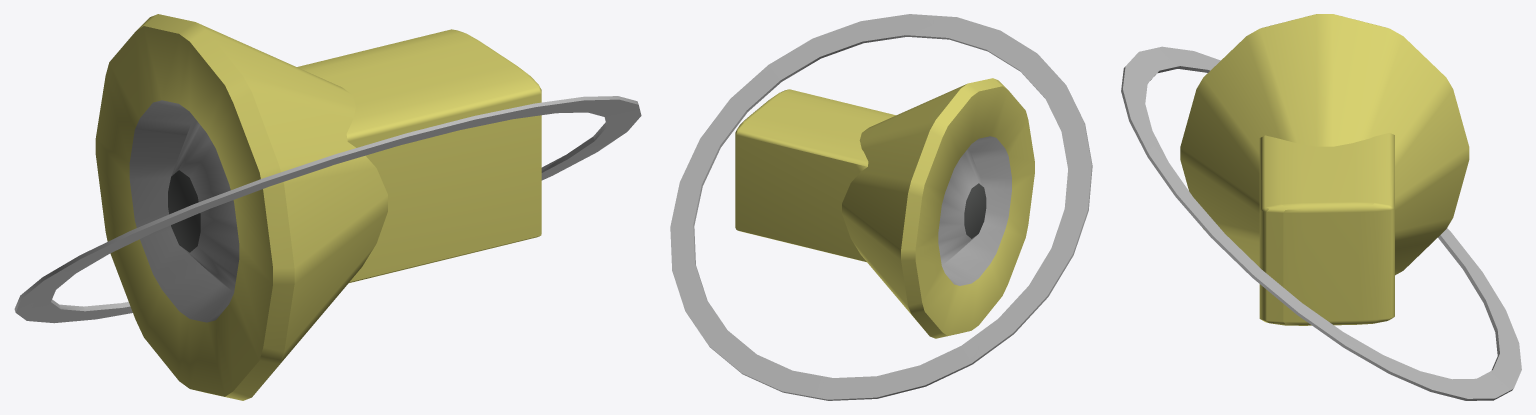
Rendered from Sound Object.fbx.
3 renders of one model, left to right at view 1: azimuth 30°, elevation 25°; view 2: azimuth 150°, elevation 25°; view 3: azimuth 270°, elevation 25°, orthographic. The views are drawn at different scales.
Visible parts, largest first — view 1: pCube1, ring_around_icon; view 2: pCube1, ring_around_icon; view 3: pCube1, ring_around_icon.
Boxes of the visible parts, left/top/right/bottom form: pCube1: left=95, top=14, right=541, bottom=400; ring_around_icon: left=14, top=96, right=641, bottom=323; pCube1: left=735, top=78, right=1034, bottom=338; ring_around_icon: left=670, top=14, right=1092, bottom=400; pCube1: left=1180, top=14, right=1469, bottom=325; ring_around_icon: left=1121, top=46, right=1521, bottom=400.
Size of the model in its own units: 22.82 by 15.21 by 18.14.
